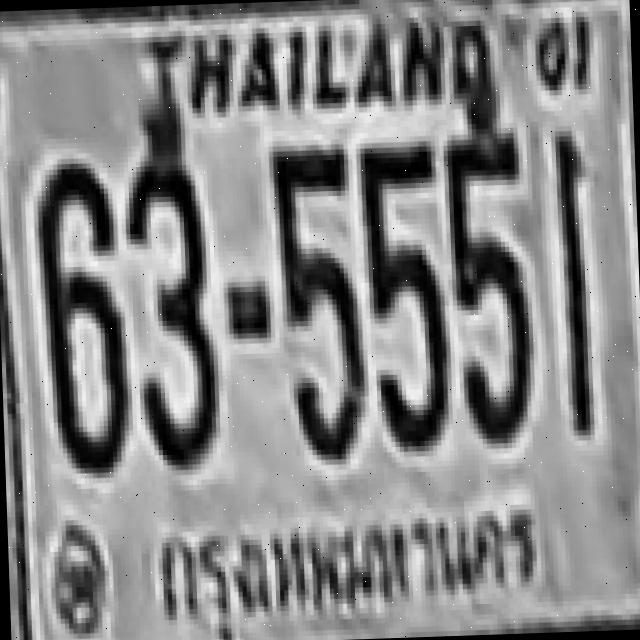0: (368, 243, 450, 448)
3: (125, 154, 219, 466)
Bangkok: (148, 496, 546, 636)
